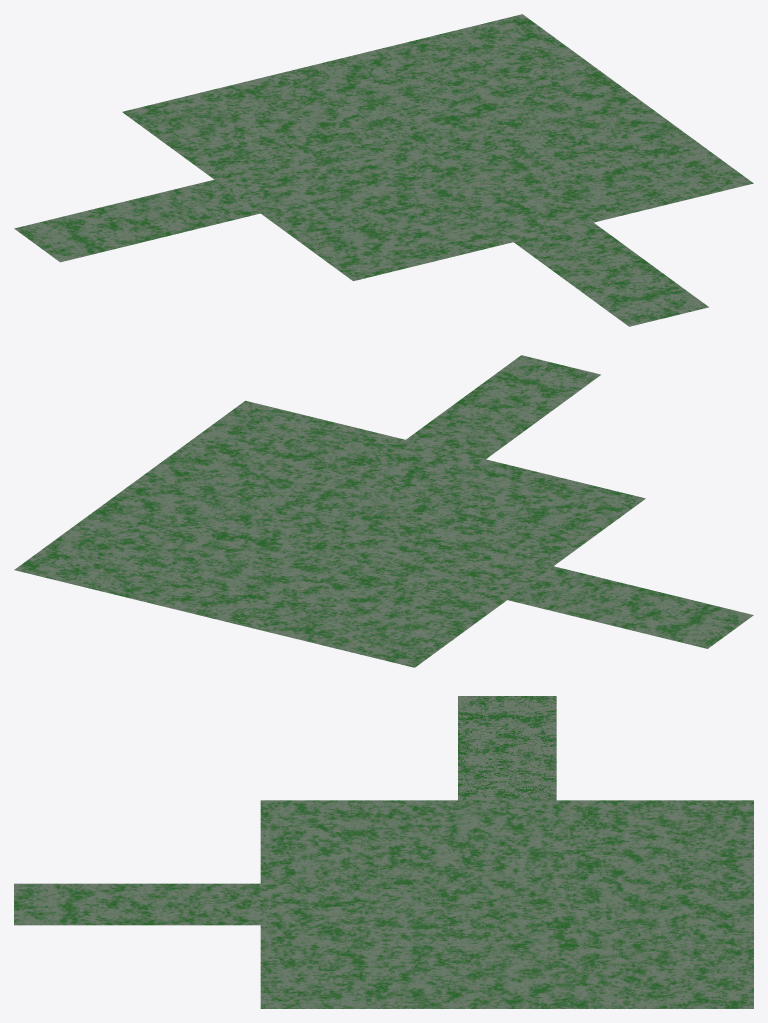
The model's file is NorthEastFloor.glb.
The picture shows the model from 3 angles, top to bottom: view 1: azimuth 30°, elevation 25°; view 2: azimuth 150°, elevation 25°; view 3: azimuth 270°, elevation 25°; orthographic projection. The views are drawn at different scales.
Visible parts, largest first — view 1: Floor; view 2: Floor; view 3: Floor.
Part boxes in pixels (bbox=[...]): Floor: bbox=[14, 14, 753, 326]; Floor: bbox=[14, 355, 753, 667]; Floor: bbox=[14, 696, 753, 1008].
Size of the model in its own units: 150 by 0 by 150.
1 material, 1 textured.
